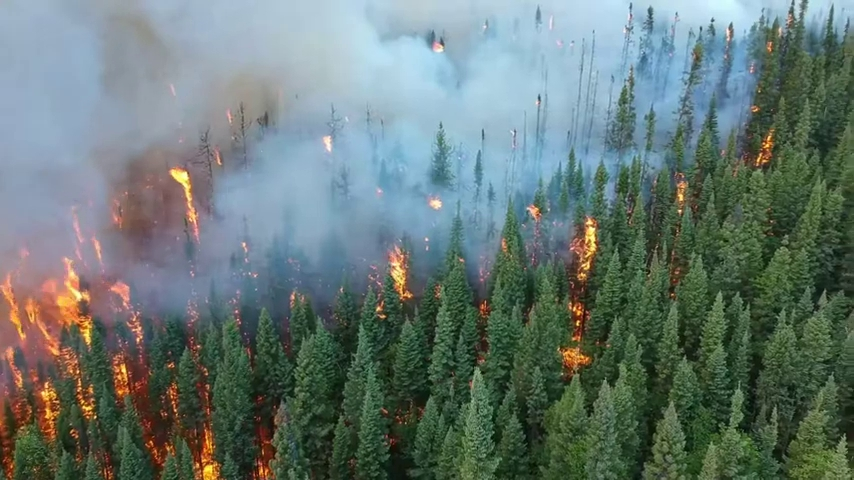forest_fire: (0, 209, 94, 418), (107, 281, 143, 399), (570, 216, 598, 292), (30, 376, 59, 437), (169, 167, 196, 227), (388, 246, 411, 298), (197, 426, 218, 479), (4, 347, 25, 394), (568, 299, 588, 342), (753, 128, 773, 166), (560, 346, 590, 371), (675, 173, 687, 214), (527, 204, 542, 221), (322, 135, 333, 153), (428, 196, 442, 210), (431, 39, 443, 52)
